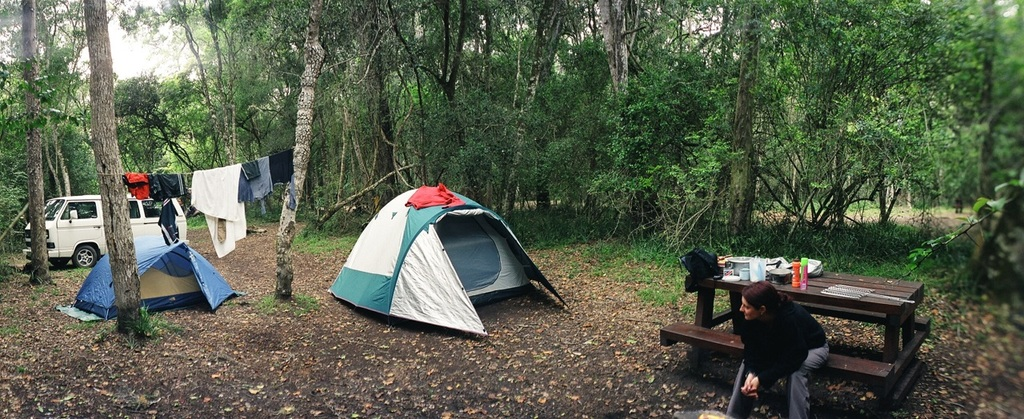Person: (722, 279, 829, 419)
